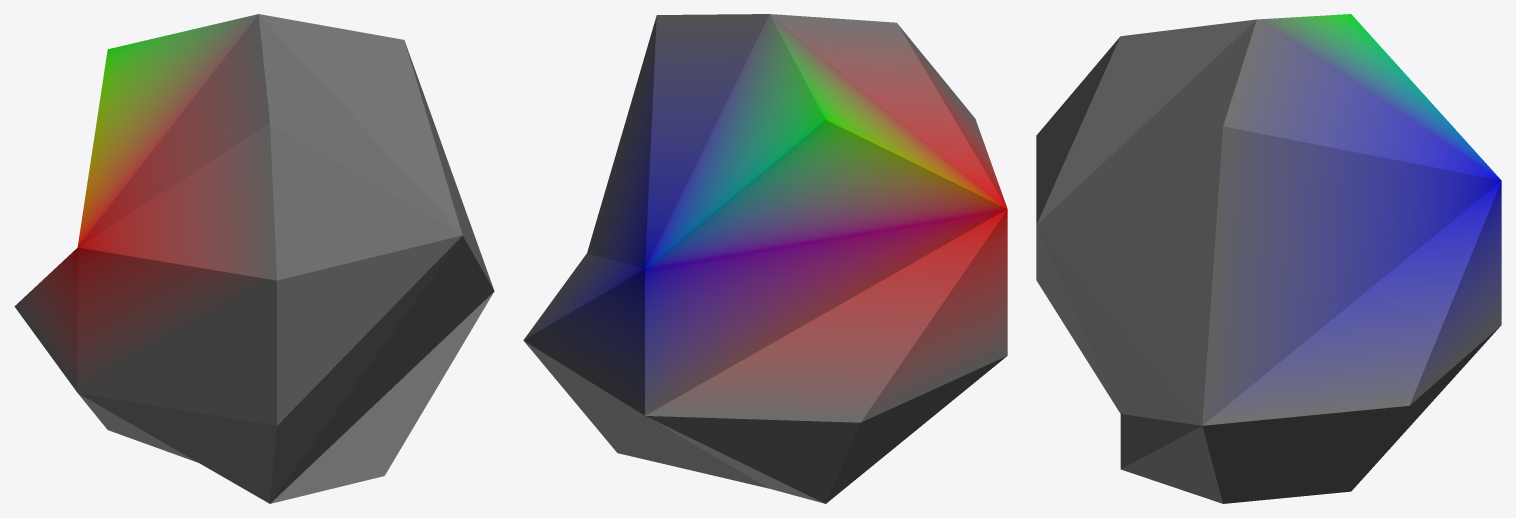
File: gate_cleaning_conquest_43.obj
The picture shows the model from 3 angles, left to right: view 1: azimuth 30°, elevation 25°; view 2: azimuth 150°, elevation 25°; view 3: azimuth 270°, elevation 25°; orthographic projection.
Size of the model in its own units: 1.85 by 2 by 1.81.
